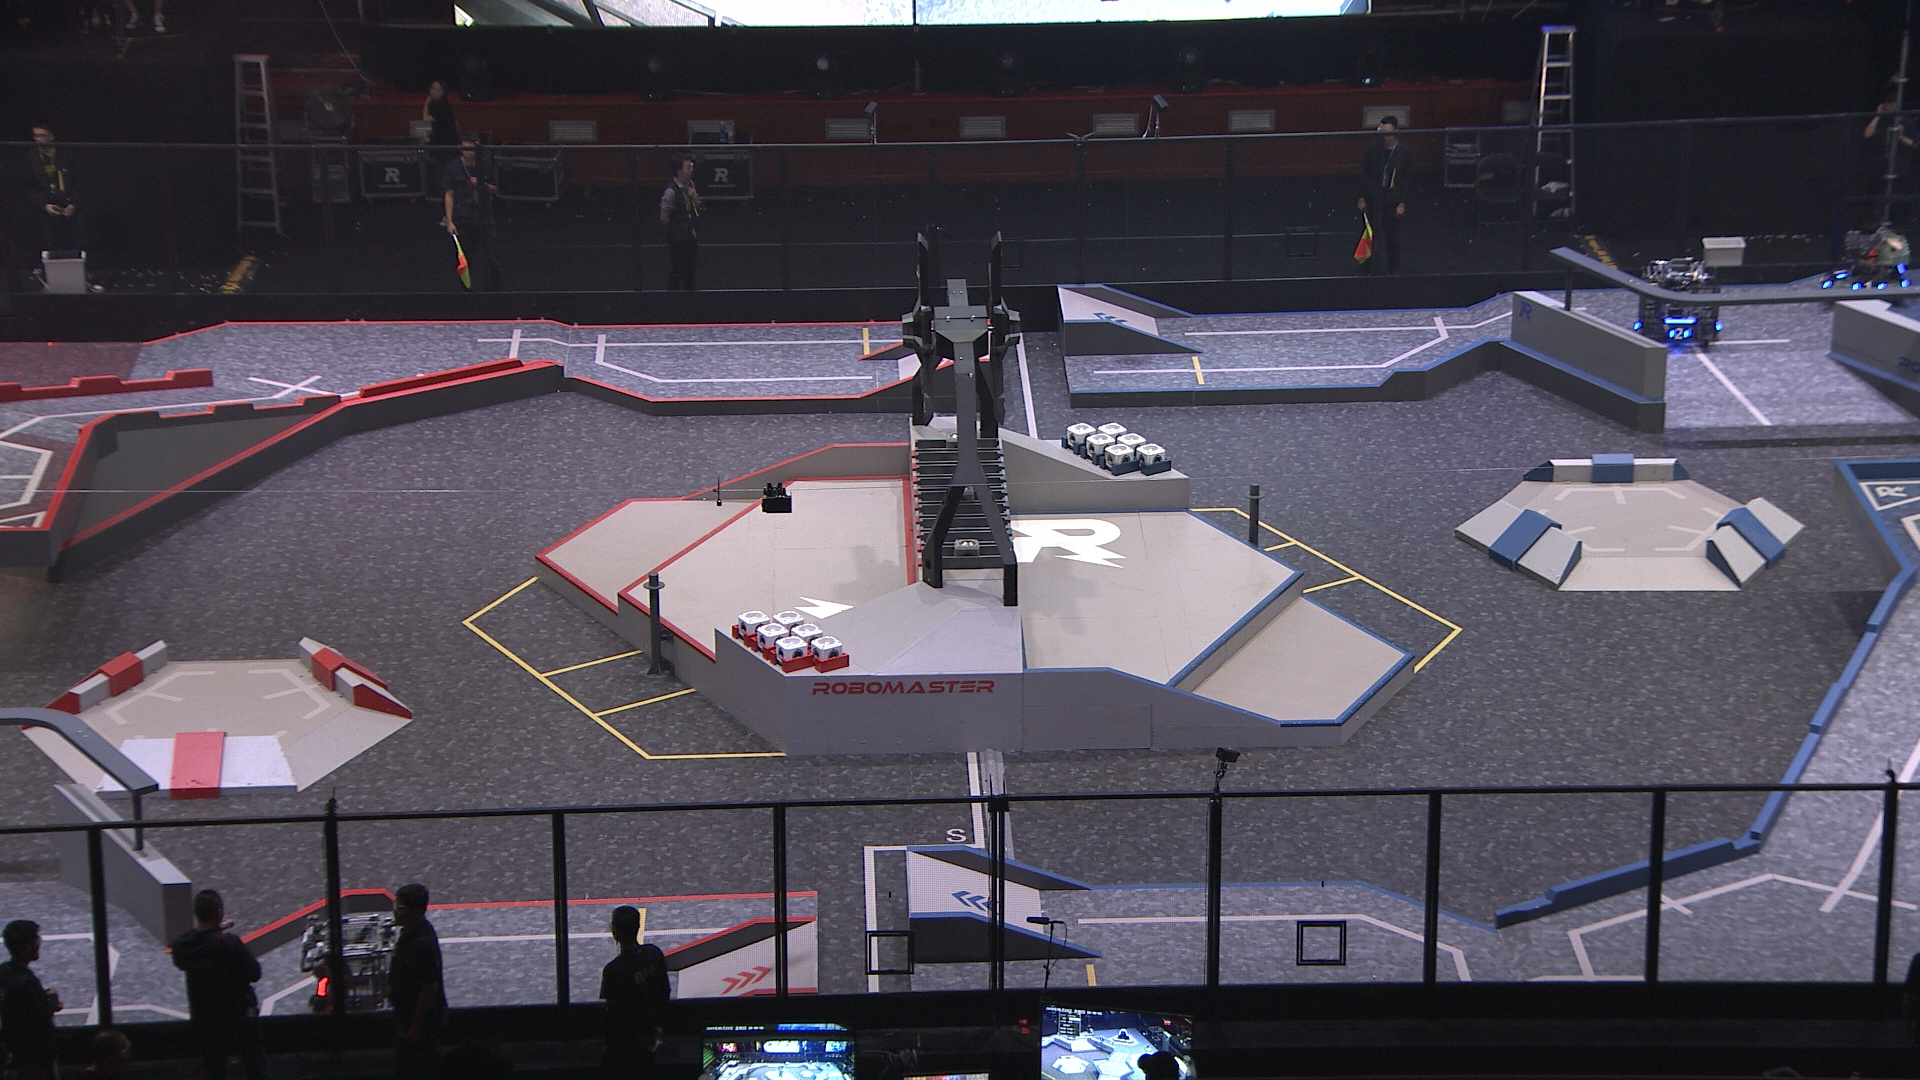armor: (1849, 278, 1888, 291), (1667, 327, 1695, 343), (1828, 266, 1849, 280)
car: (297, 913, 409, 1027), (1633, 258, 1724, 351), (1816, 225, 1916, 309)
